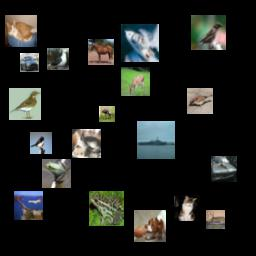airplane: (14, 191, 43, 220)
automobile: (211, 156, 237, 182), (20, 53, 39, 72)
bird: (191, 15, 226, 50), (9, 88, 41, 120), (187, 88, 213, 114), (30, 132, 52, 154), (47, 48, 69, 70), (99, 106, 115, 122)
cat: (5, 15, 37, 47), (72, 129, 101, 158), (174, 195, 200, 221), (206, 210, 225, 229)
deer: (121, 67, 150, 96)
dog: (134, 210, 166, 242)
frog: (89, 191, 124, 226), (42, 159, 71, 188)
ship: (121, 24, 159, 62), (137, 121, 175, 159)
